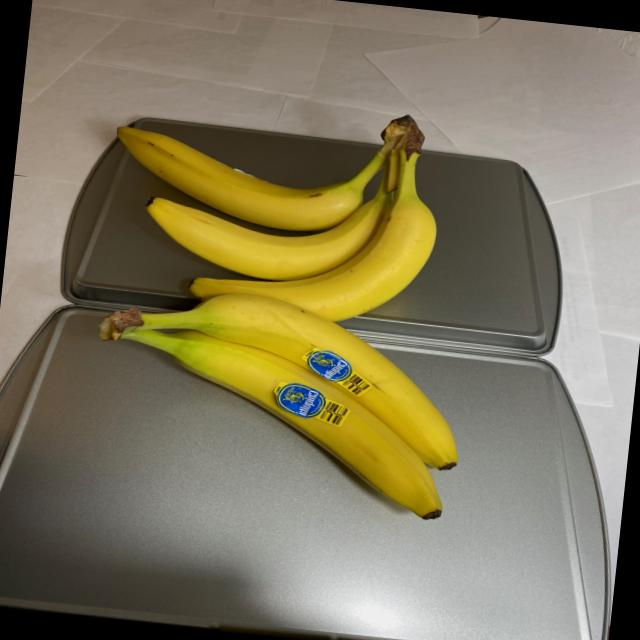banana: (70, 278, 479, 526), (93, 82, 448, 326)
